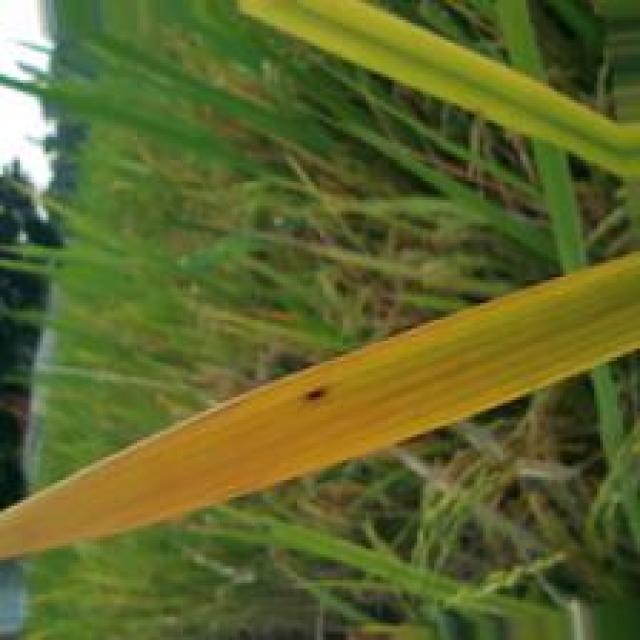Brown_Spot: (308, 390, 326, 400)
